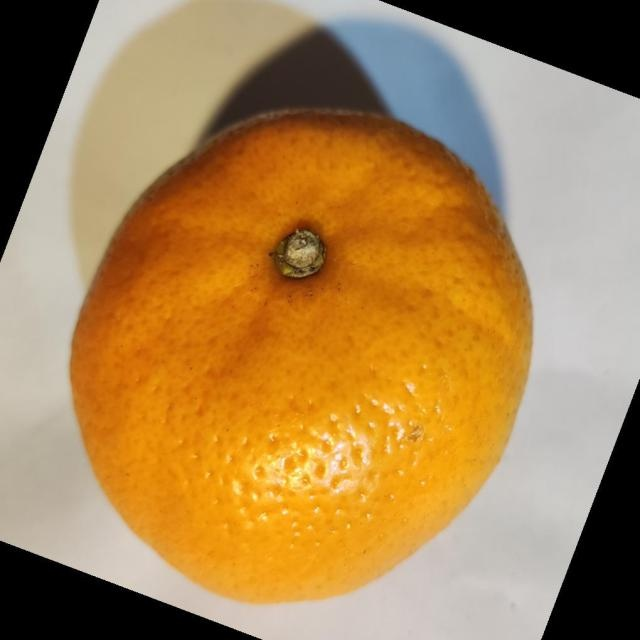agrume: (68, 105, 535, 605)
